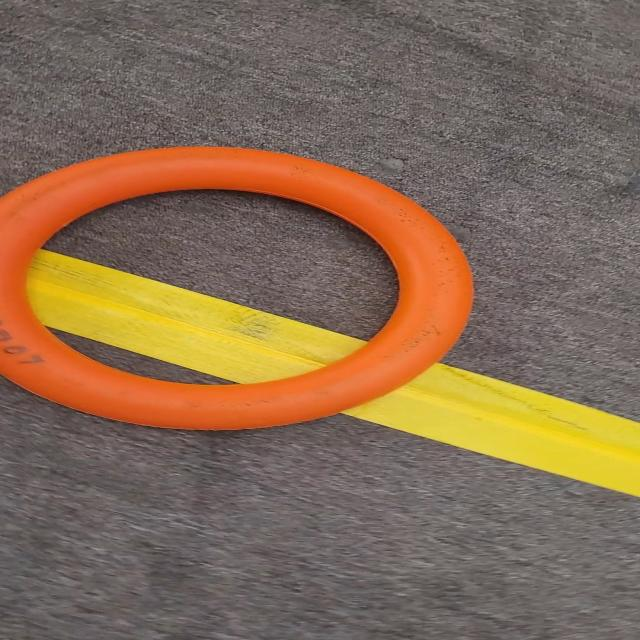note: (0, 140, 480, 434)
